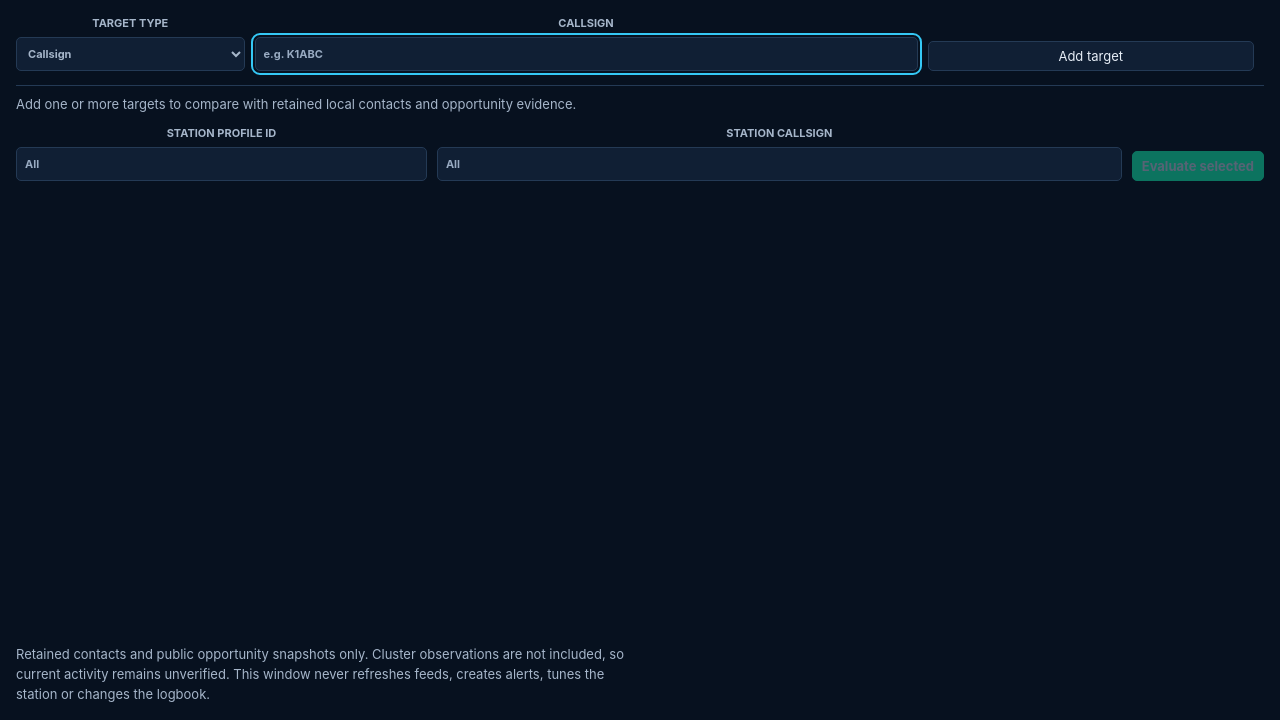
evaluates explicit targets and explains local, sponsor, freshness and source boundaries
Type "k1abc" into the field labelled "Callsign".
click(586, 54); type("k1abc")  # box [254, 37, 918, 71]
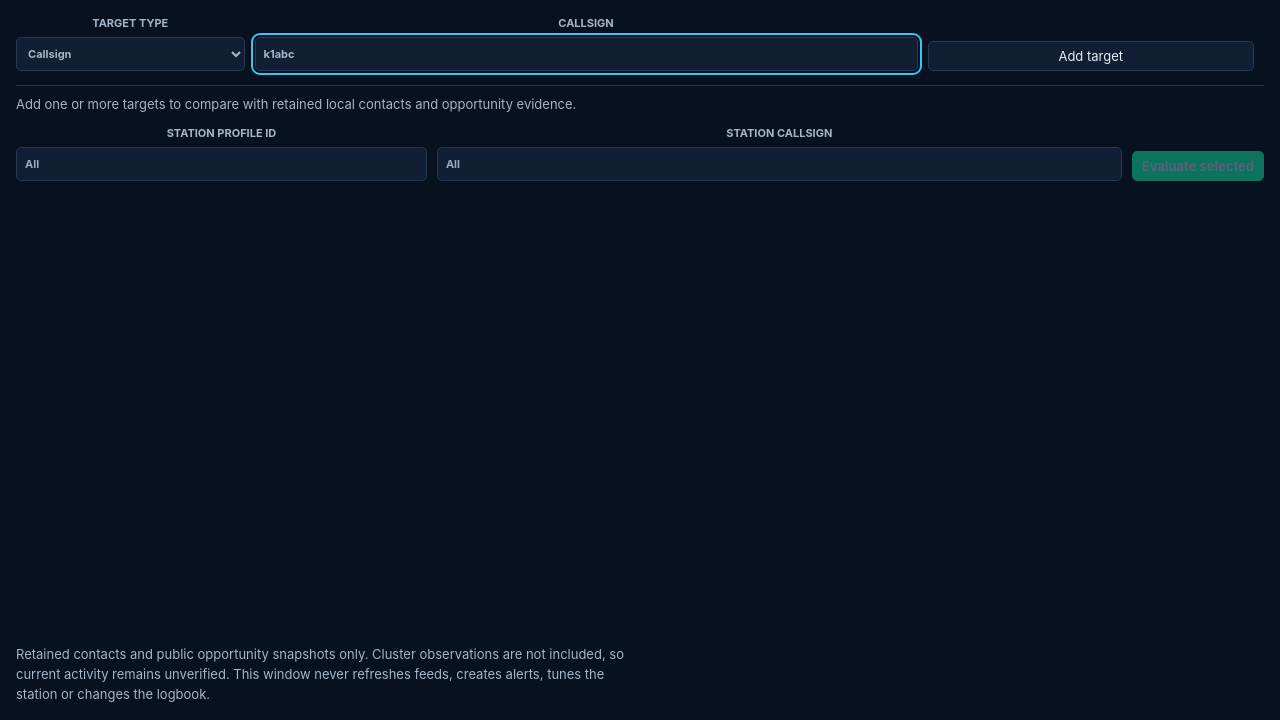
Click the button "Add target".
click(1091, 56)  # box [928, 41, 1254, 71]
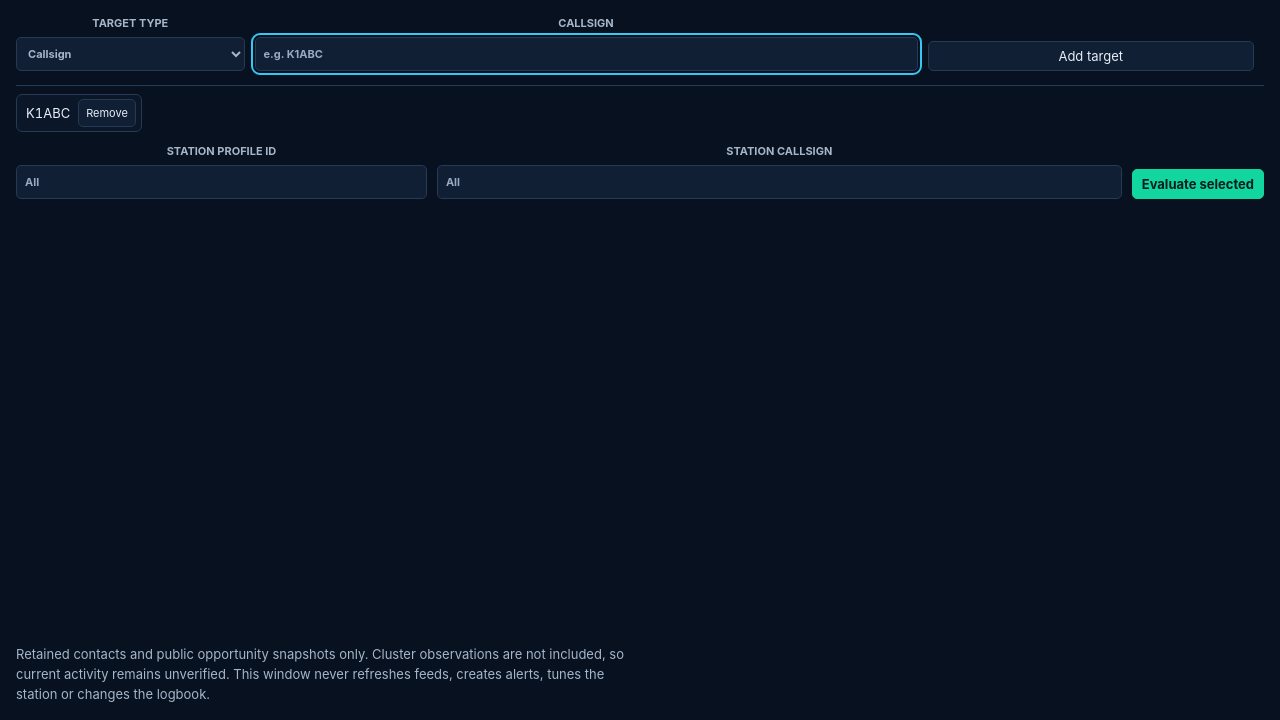
Click the button "Evaluate selected".
click(1198, 184)  # box [1132, 169, 1264, 199]
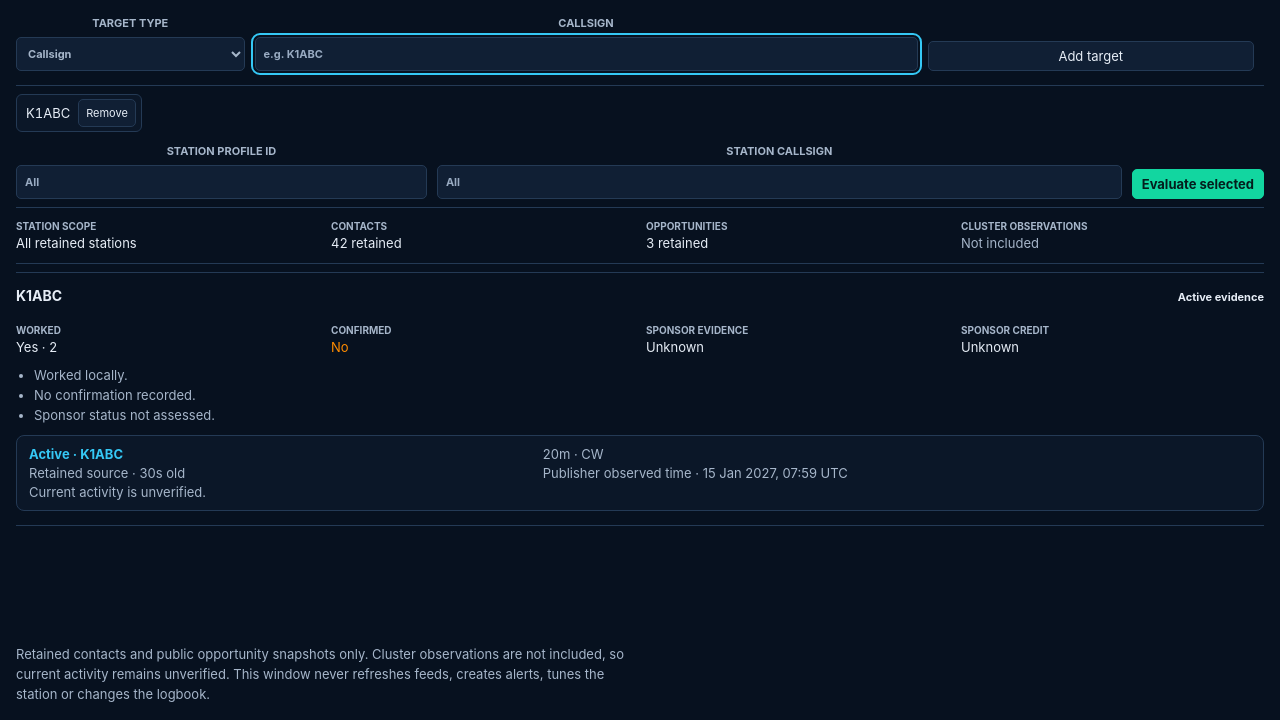
Now the heading "K1ABC" is shown, box [16, 287, 62, 304]
Now the text "Yes · 2" is shown, box [16, 339, 57, 355]
Now the text "No" is shown, box [331, 339, 349, 355]
